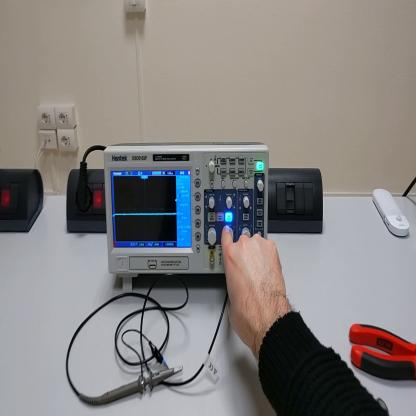hand: (222, 225, 287, 350)
oscilloscope: (103, 144, 270, 296)
oscilloscope probe tip: (97, 366, 186, 409)
pliers: (349, 319, 416, 385)
socket: (1, 164, 45, 236), (64, 169, 108, 236)
